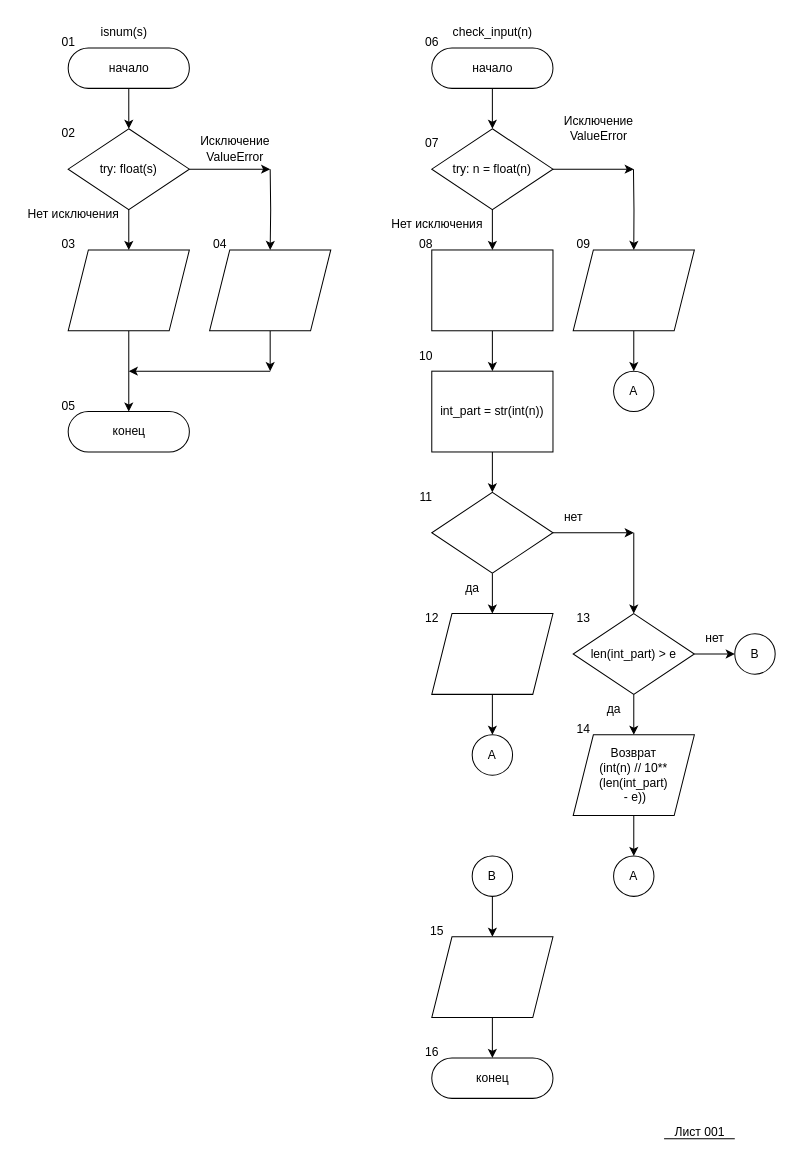
This 793x1165 diagram has some shape labels left out. The box of each missing label's shape, as (x1, y1, x2, y2) in pixels:
len(int_part) < e: (431, 491, 553, 573)
n = float(n): (431, 249, 553, 331)
Возврат False: (209, 249, 331, 331)
Возврат float(n): (431, 936, 553, 1018)
Возврат int(n) + round((n%1),e-len(int_part)): (431, 613, 553, 694)
Возврат n: (572, 249, 694, 331)
Возврат True: (67, 249, 189, 331)
